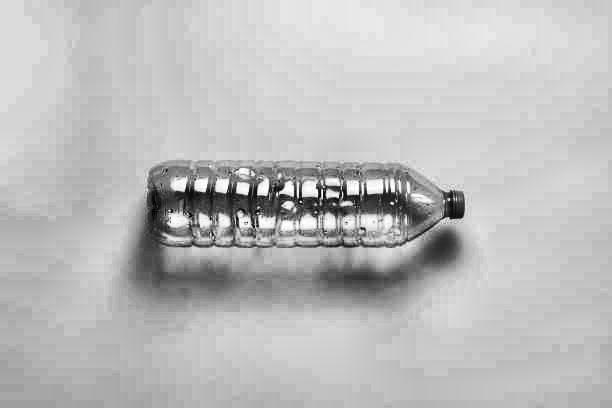waterbottle: (144, 88, 487, 310)
